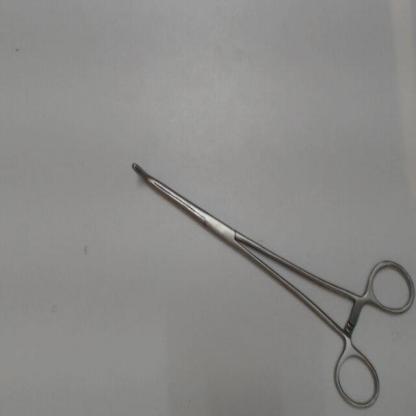Lahey Forceps: (124, 146, 415, 412)
